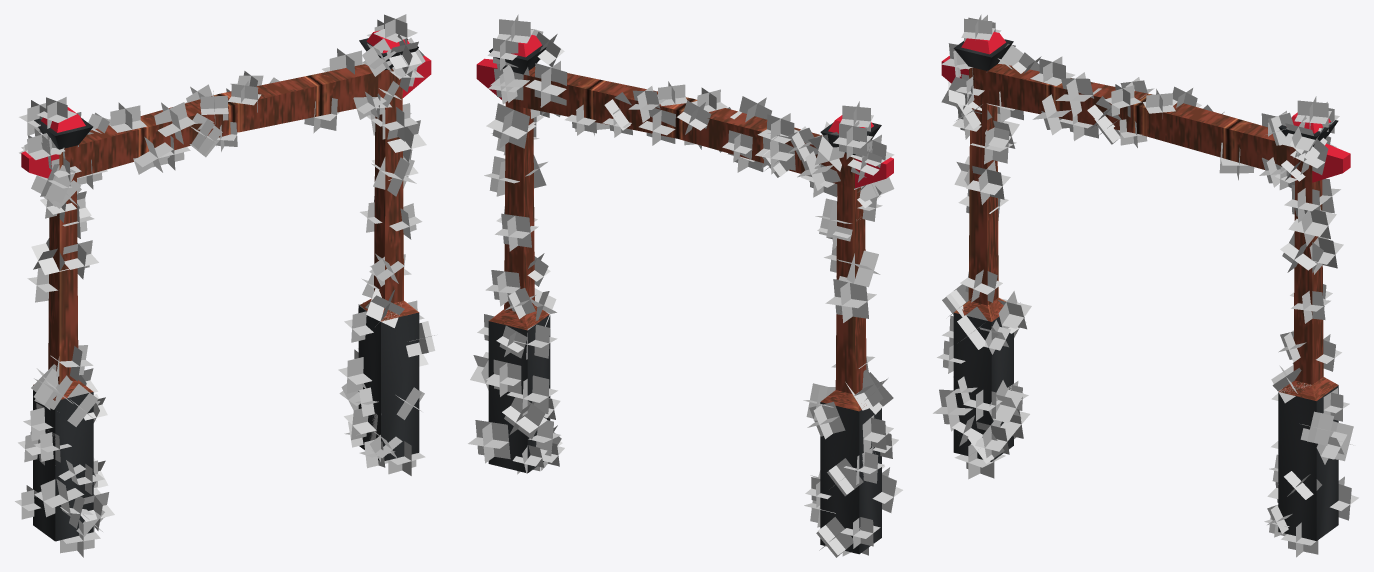
File: WoodArch_Sq_Leafy.fbx
3 views of the same model, side by side, from view 1: azimuth 30°, elevation 25°; view 2: azimuth 150°, elevation 25°; view 3: azimuth 330°, elevation 25° (orthographic). The views are drawn at different scales.
Visible parts, largest first — view 1: Growth, WoodArch_Sq_Leafy; view 2: Growth, WoodArch_Sq_Leafy; view 3: Growth, WoodArch_Sq_Leafy.
Part boxes in pixels (bbox=[...]): Growth: bbox=[15, 14, 435, 557]; WoodArch_Sq_Leafy: bbox=[21, 30, 431, 541]; Growth: bbox=[468, 14, 902, 557]; WoodArch_Sq_Leafy: bbox=[476, 35, 893, 554]; Growth: bbox=[933, 14, 1358, 557]; WoodArch_Sq_Leafy: bbox=[941, 32, 1350, 540].
Bounding box in the file's own units: 2.63 × 0.4623 × 2.78.
